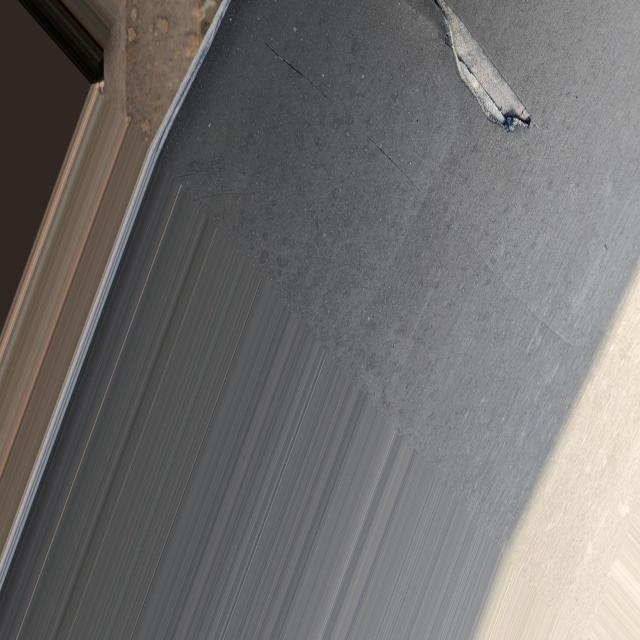Tear: (432, 0, 540, 135)
